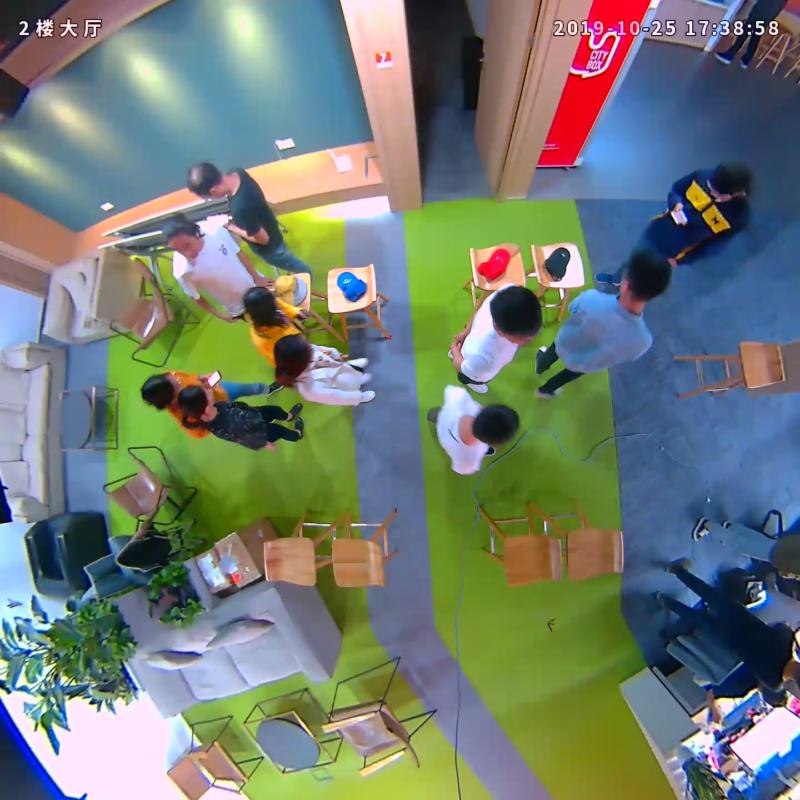head: (490, 285, 543, 345), (618, 249, 672, 302), (472, 402, 519, 444), (160, 216, 203, 258), (707, 159, 751, 200), (186, 162, 225, 202), (274, 333, 312, 371), (140, 372, 180, 407), (176, 385, 215, 418), (242, 285, 277, 319)
